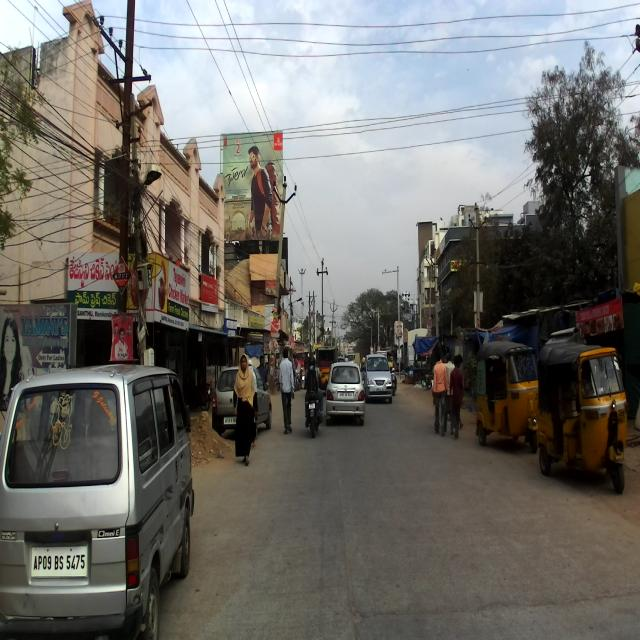auto ahead at: (541, 331, 629, 486), (474, 339, 542, 461)
car ahead at: (9, 356, 198, 632), (330, 360, 364, 428)
electric pole ahead at: (88, 0, 176, 352)
person ahead at: (232, 356, 258, 474), (277, 340, 297, 439)
